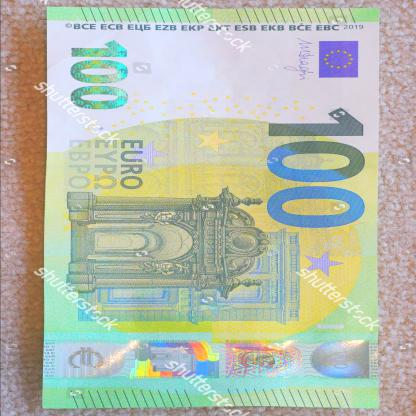euro_banknote: (12, 39, 413, 377)
